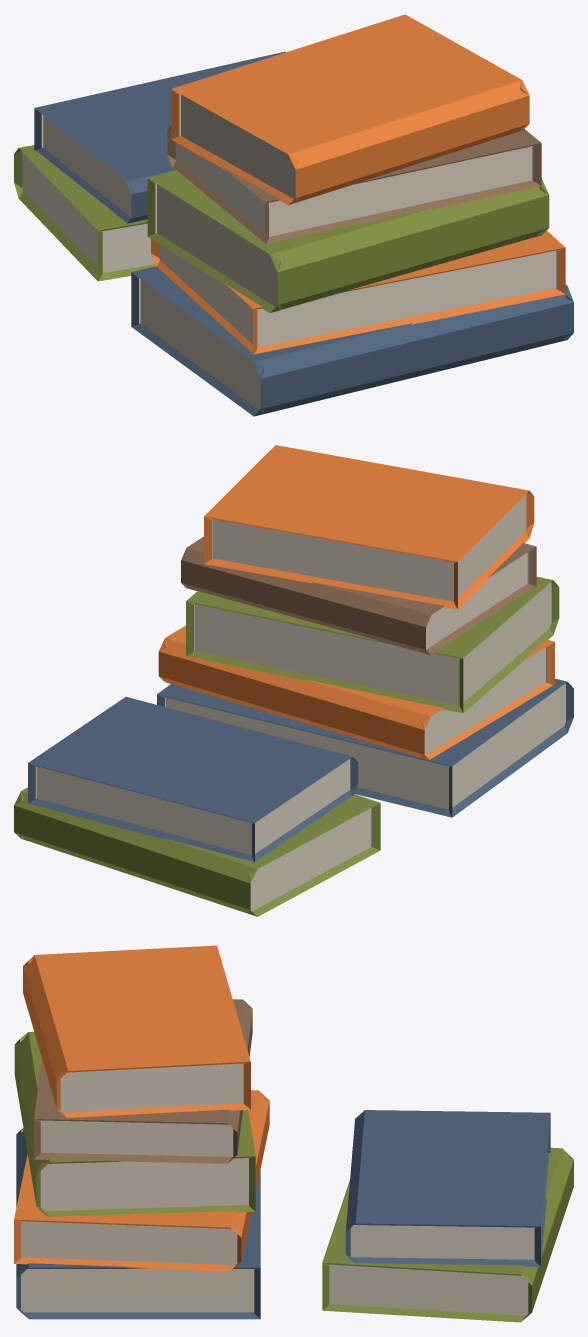
3 views of the same model, one above another, from view 1: azimuth 30°, elevation 25°; view 2: azimuth 150°, elevation 25°; view 3: azimuth 270°, elevation 25° (orthographic). The views are drawn at different scales.
Parts seen in each view (by area): view 1: C08_books; view 2: C08_books; view 3: C08_books.
Boxes of the visible parts, bbox=[...] form: C08_books: bbox=[14, 14, 573, 416]; C08_books: bbox=[14, 445, 573, 916]; C08_books: bbox=[14, 945, 573, 1322].
Bounding box in the file's own units: 0.4314 × 0.321 × 0.6874.
